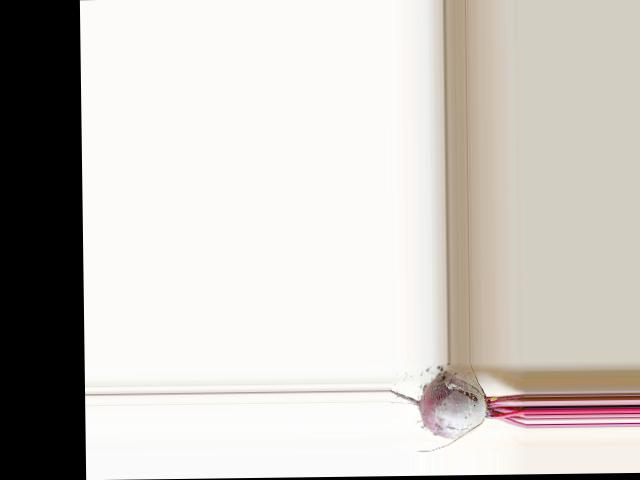beet: (388, 371, 525, 452)
